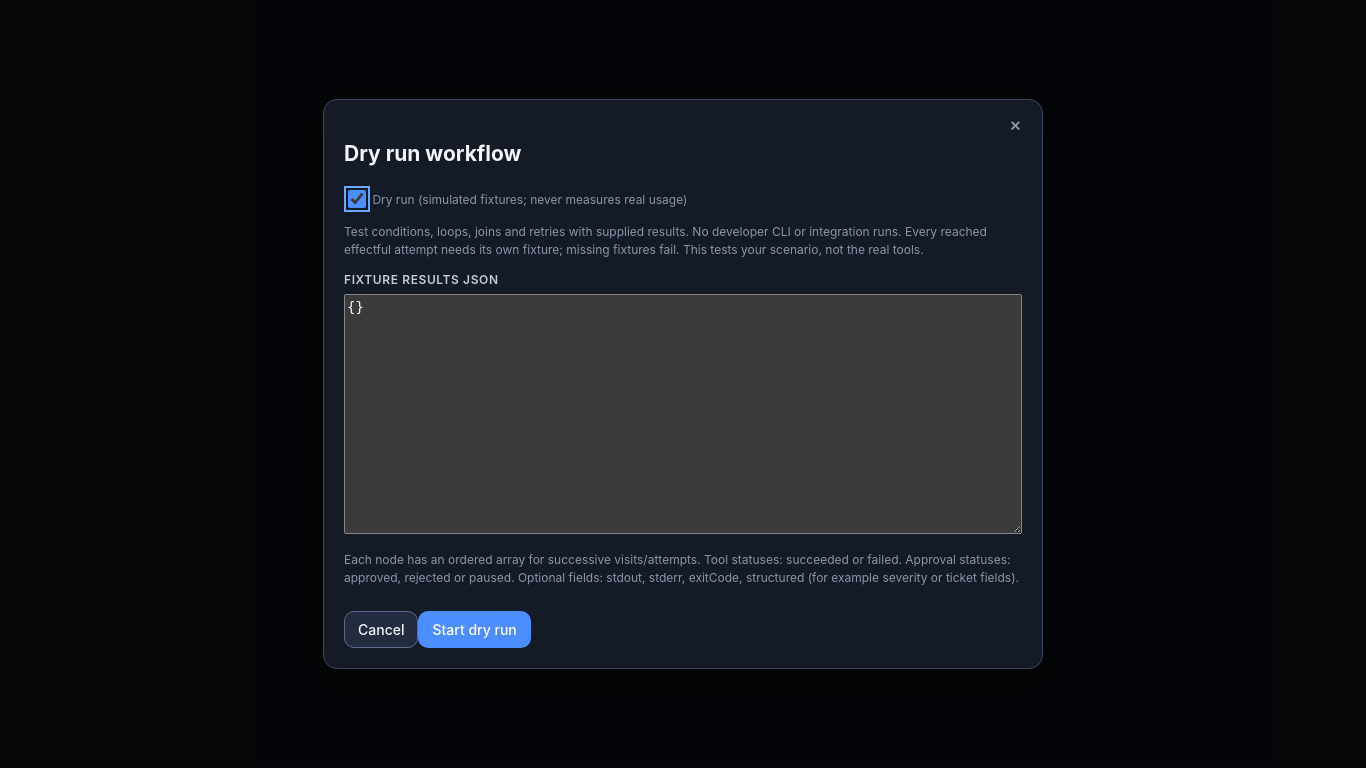
Scenario: rejects malformed fixture JSON before submission
Replace the text in the text box labelled "Fixture results JSON" with "[]" at (683, 414), box 344,294 -> 1022,534
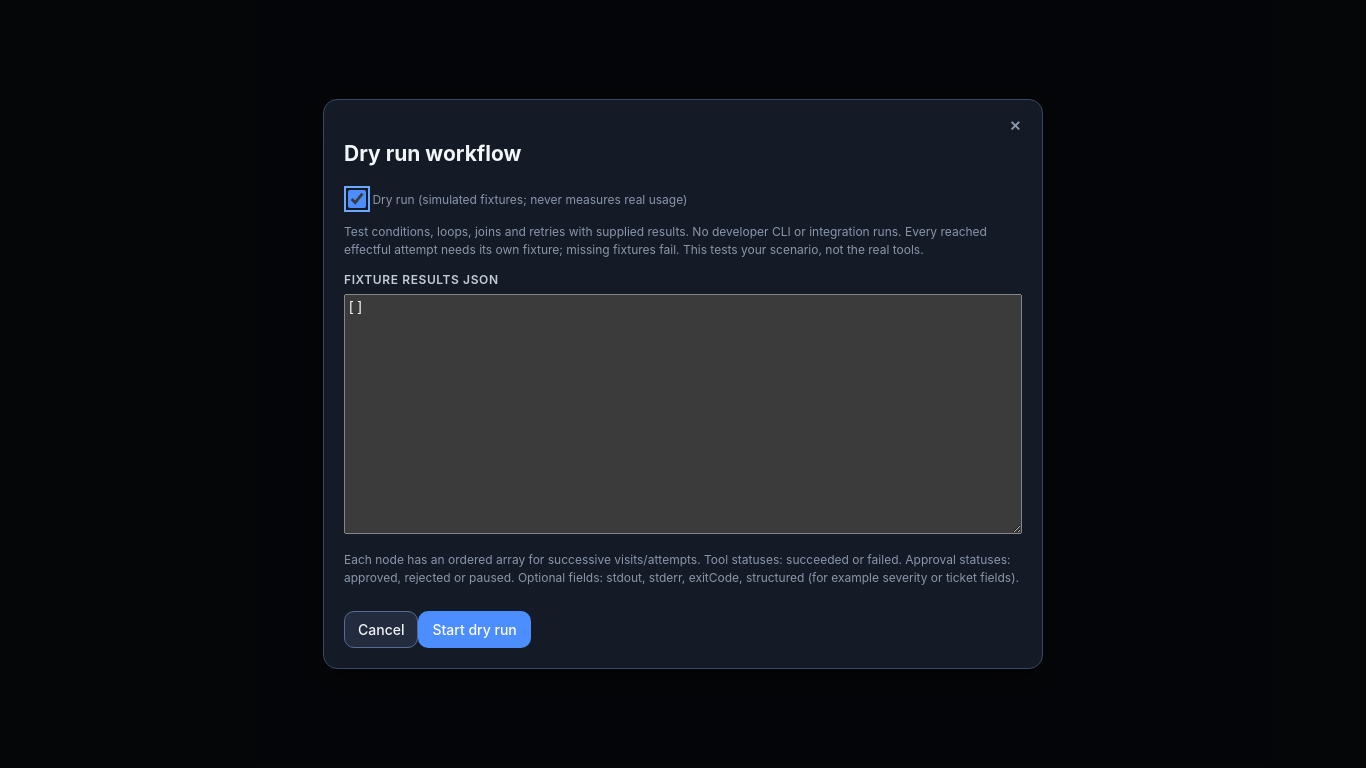
Click the button "Start dry run".
click(475, 629)  # box 418,611 -> 531,648
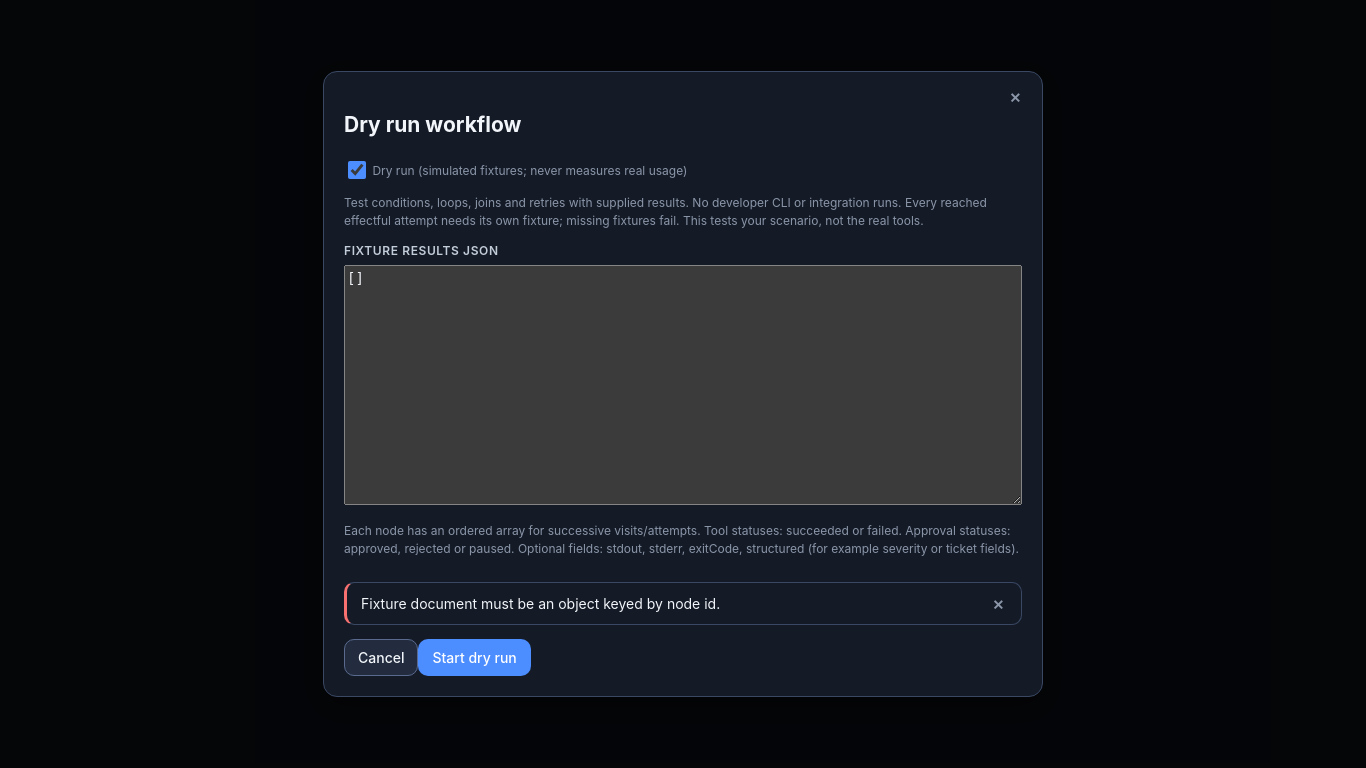
Expected: the text "Fixture document must be an object keyed by node id." is shown, 361,595 -> 720,612
